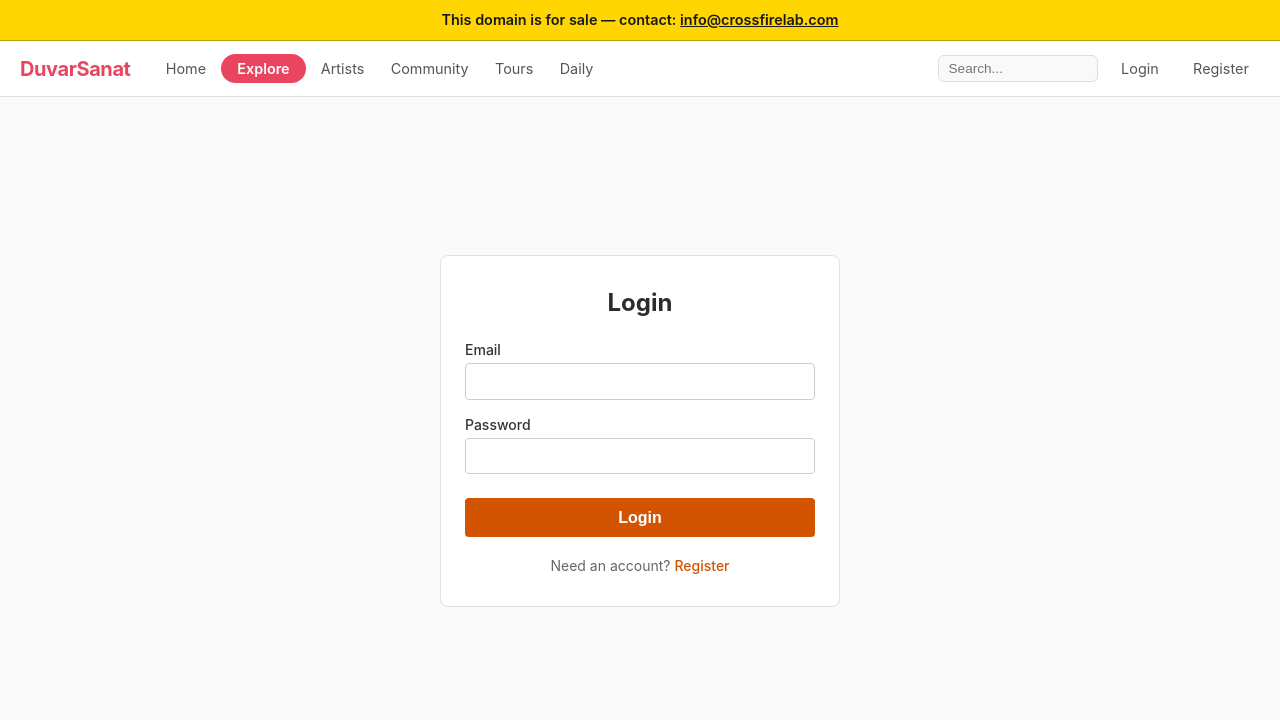
it: LoginPage › shows validation errors when submitting empty form
The image size is (1280, 720).
Click the button "Login": x=640, y=518 [465,498,815,537]
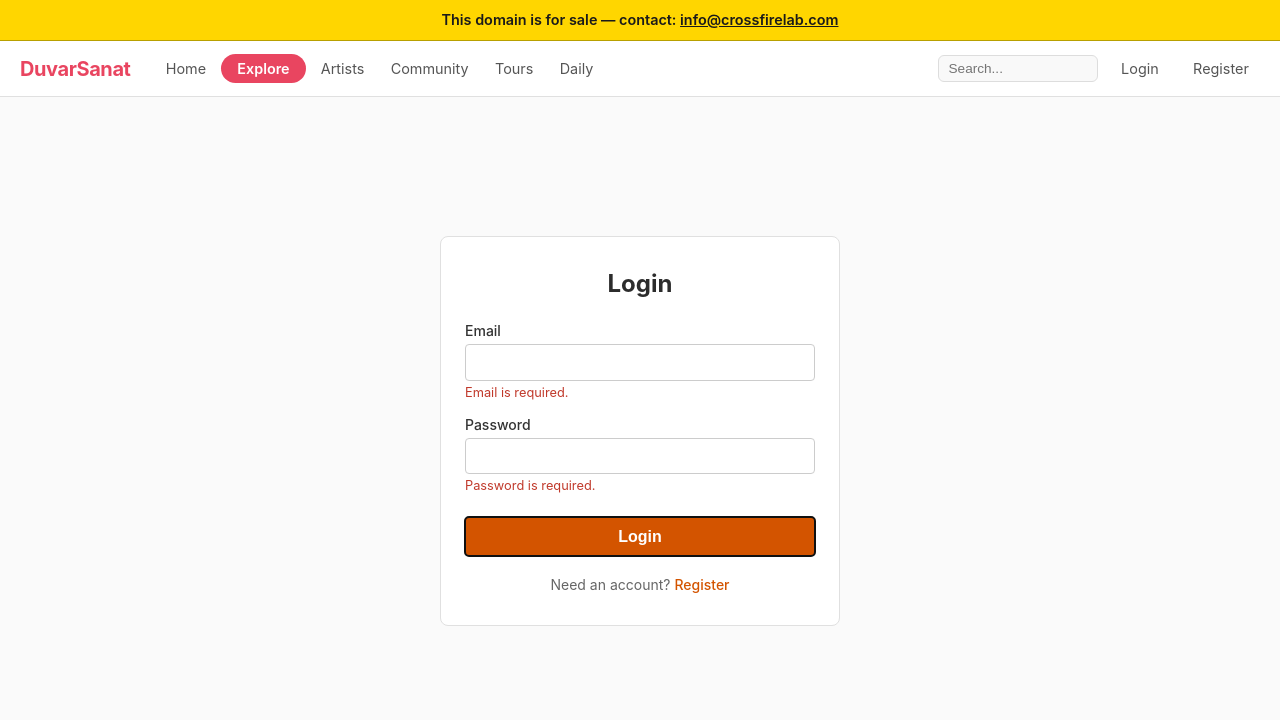
Expected: the text "Email is required." is shown, [465,385,568,400]
Expected: the text "Password is required." is shown, [465,478,595,493]
